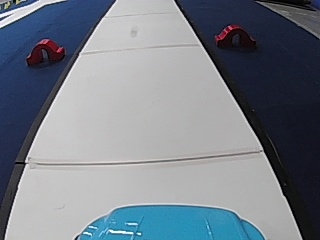bridge: (24, 34, 64, 66), (212, 21, 256, 50)
